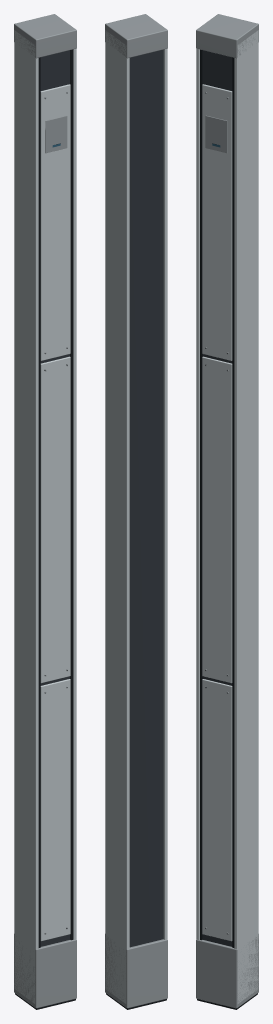
Rendered from AD_pillar_Manufactured.fbx.
The picture shows the model from 3 angles, left to right: view 1: azimuth 30°, elevation 25°; view 2: azimuth 210°, elevation 25°; view 3: azimuth 330°, elevation 25°; orthographic projection.
Visible parts, largest first — view 1: AD_pillar_Manufactured; view 2: AD_pillar_Manufactured; view 3: AD_pillar_Manufactured.
Boxes of the visible parts, left/top/right/bottom form: AD_pillar_Manufactured: left=14, top=14, right=76, bottom=1009; AD_pillar_Manufactured: left=105, top=14, right=167, bottom=1009; AD_pillar_Manufactured: left=196, top=14, right=258, bottom=1009.
Size of the model in its own units: 0.16 by 3.6 by 0.1505.
